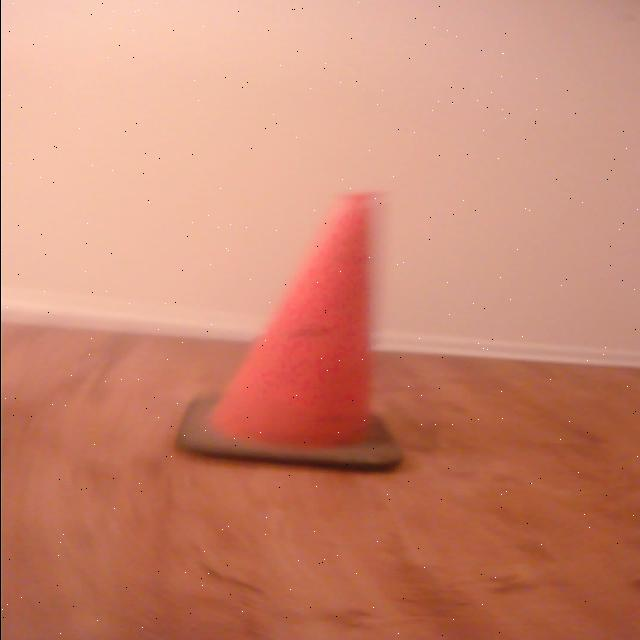traffic cone: (160, 181, 415, 479)
